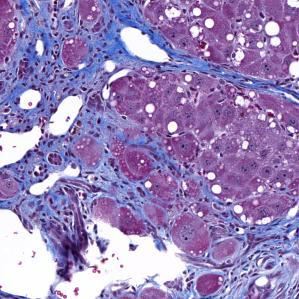fibrosis: (101, 137, 227, 239), (17, 13, 129, 99), (15, 153, 102, 246), (221, 220, 298, 299)
